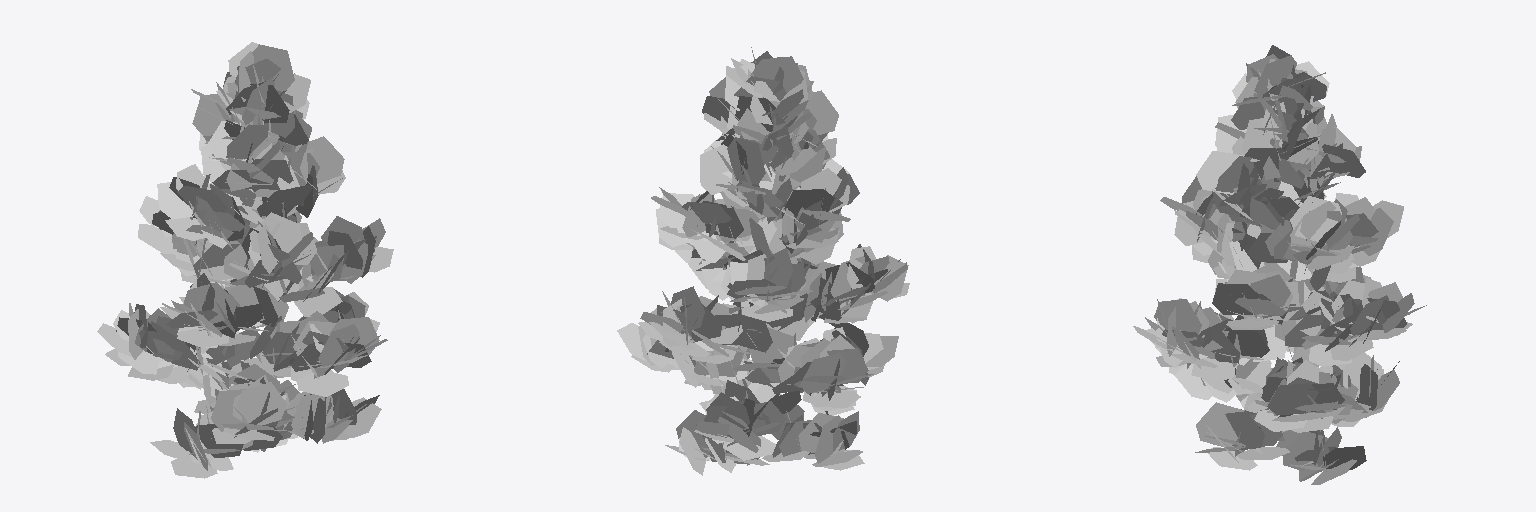
The model's file is TreeLeaves2.obj.
3 views of the same model, side by side, from view 1: azimuth 30°, elevation 25°; view 2: azimuth 150°, elevation 25°; view 3: azimuth 270°, elevation 25° (orthographic).
Bounding box in the file's own units: 5.87 × 8.83 × 5.74.